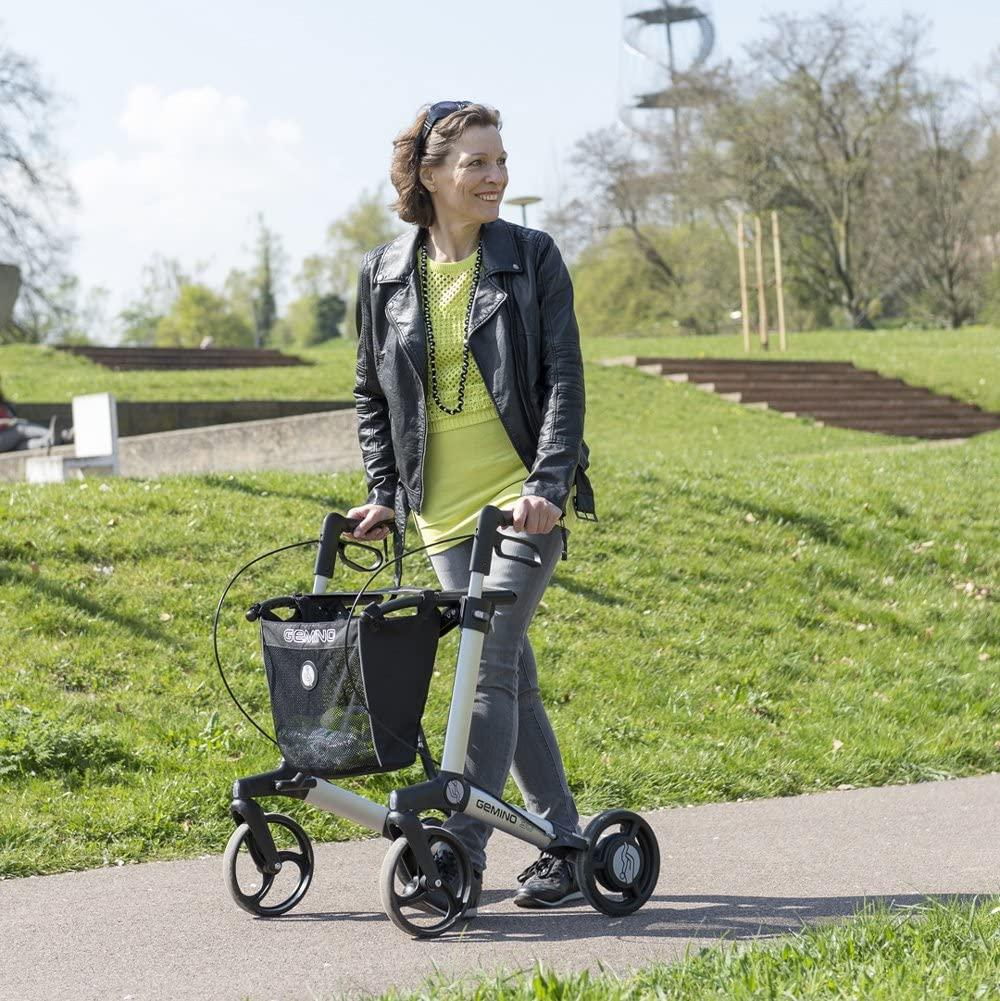walking_frame: (215, 101, 662, 938)
